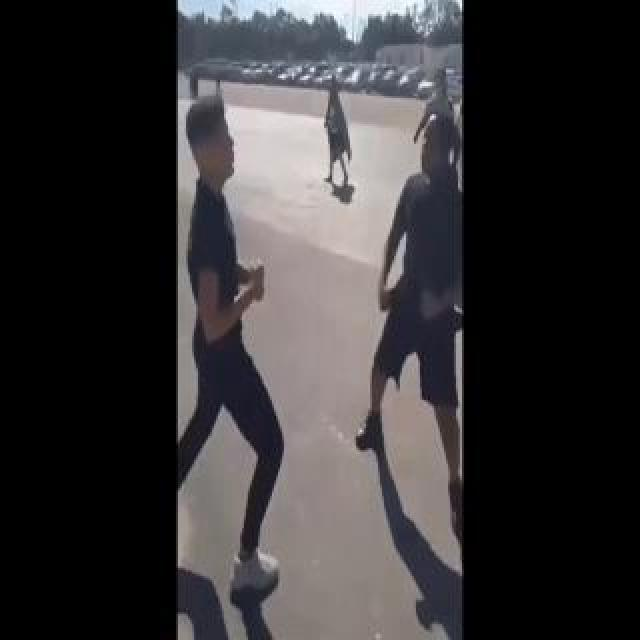fight: (168, 74, 466, 542)
